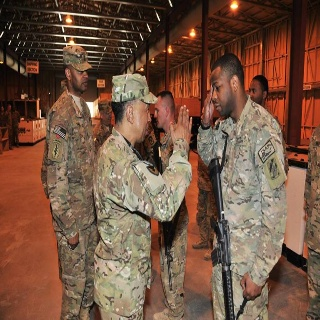rifle: (207, 157, 239, 320)
